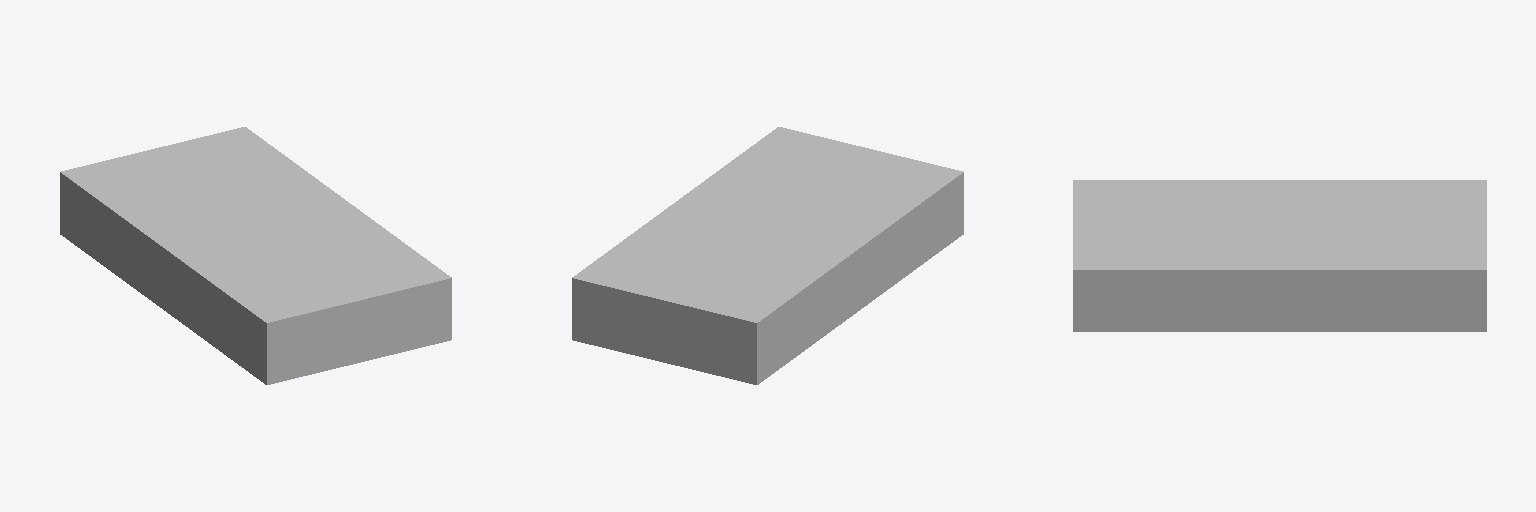
The model's file is halfmagnet.obj.
The picture shows the model from 3 angles: view 1: azimuth 30°, elevation 25°; view 2: azimuth 150°, elevation 25°; view 3: azimuth 270°, elevation 25°; orthographic projection.
Parts seen in each view (by area): view 1: Cube_Cube.001; view 2: Cube_Cube.001; view 3: Cube_Cube.001.
Boxes of the visible parts, <box> form: Cube_Cube.001: <box>60,127,451,384</box>; Cube_Cube.001: <box>572,127,963,384</box>; Cube_Cube.001: <box>1073,180,1486,331</box>.
Bounding box in the file's own units: 2 × 0.6405 × 3.86.